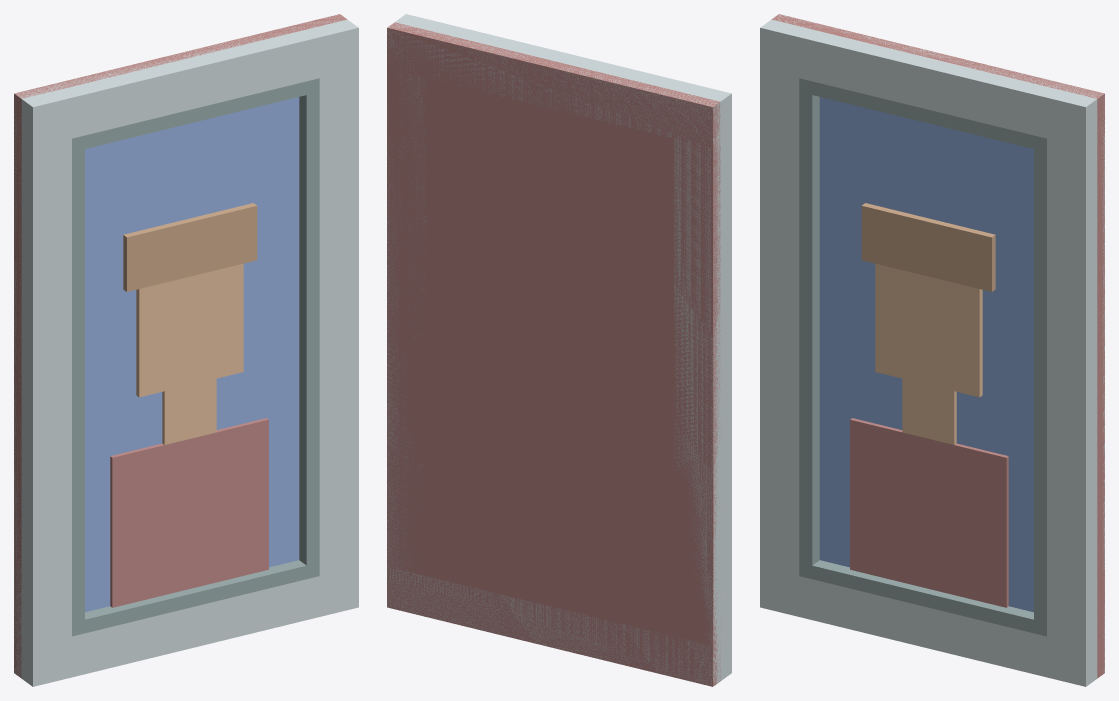
File: picturePortrait.glb
3 views of the same model, side by side, from view 1: azimuth 30°, elevation 25°; view 2: azimuth 150°, elevation 25°; view 3: azimuth 330°, elevation 25° (orthographic).
Parts seen in each view (by area): view 1: picturePortrait; view 2: picturePortrait; view 3: picturePortrait.
Part boxes in pixels (box(x1,y1,x2,y2)): picturePortrait: box(14, 14, 358, 686); picturePortrait: box(387, 14, 731, 686); picturePortrait: box(760, 14, 1104, 686).
Bounding box in the file's own units: 0.25 × 0.425 × 0.025.
